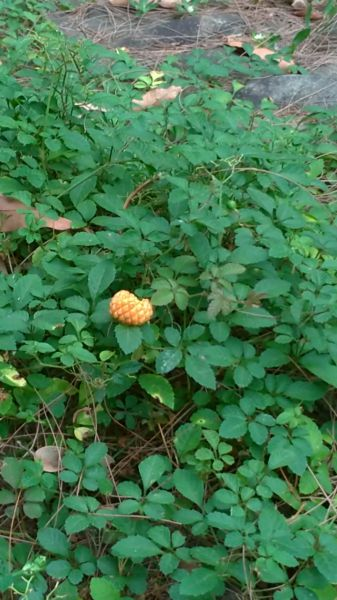eggs: (101, 286, 156, 327)
